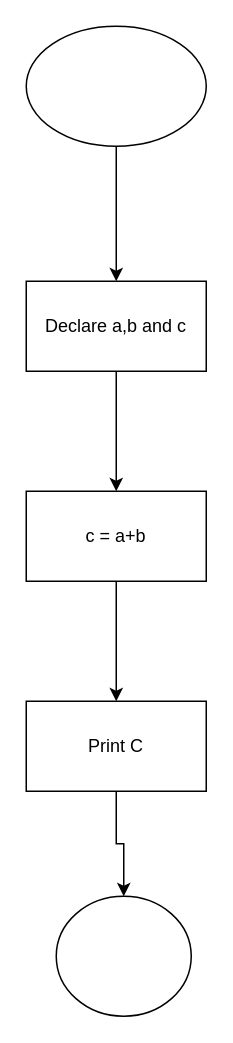
Image size: 233x1043. Some labels were removed from this diagram. The box of each missing label's shape, as (x1, y1, x2, y2) in pixels:
Start: (25, 25, 206, 146)
Stop: (55, 895, 191, 1016)
